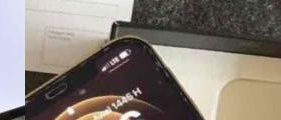physical_damage: (134, 30, 194, 113), (25, 79, 60, 120)
